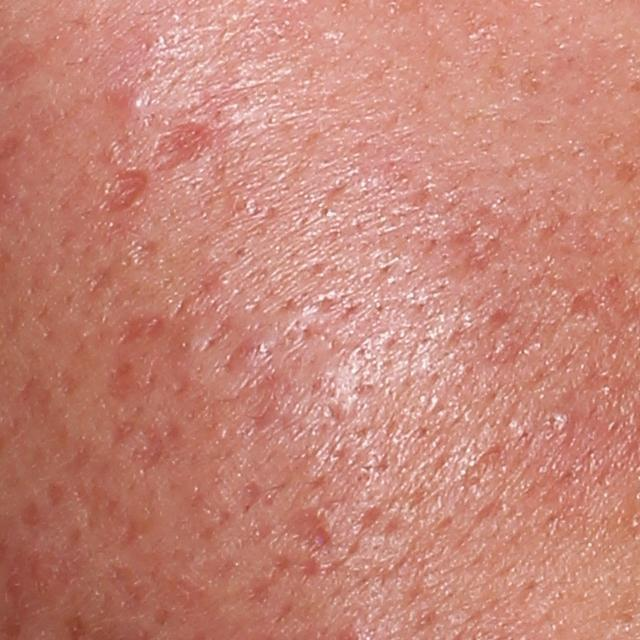atrophic_scar: (439, 199, 534, 277), (149, 121, 219, 176), (97, 166, 157, 215), (278, 510, 340, 554), (123, 424, 167, 477), (114, 312, 169, 347), (119, 237, 172, 269)
